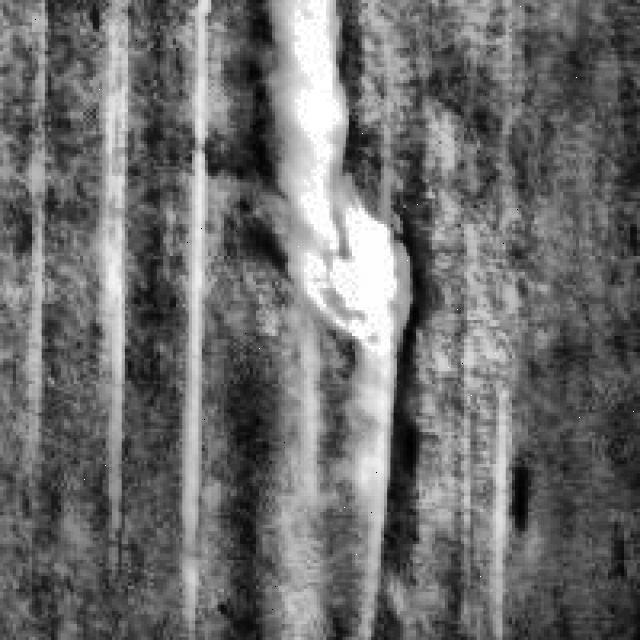Inclusion: (256, 0, 410, 506), (83, 0, 134, 518), (172, 0, 212, 522)
